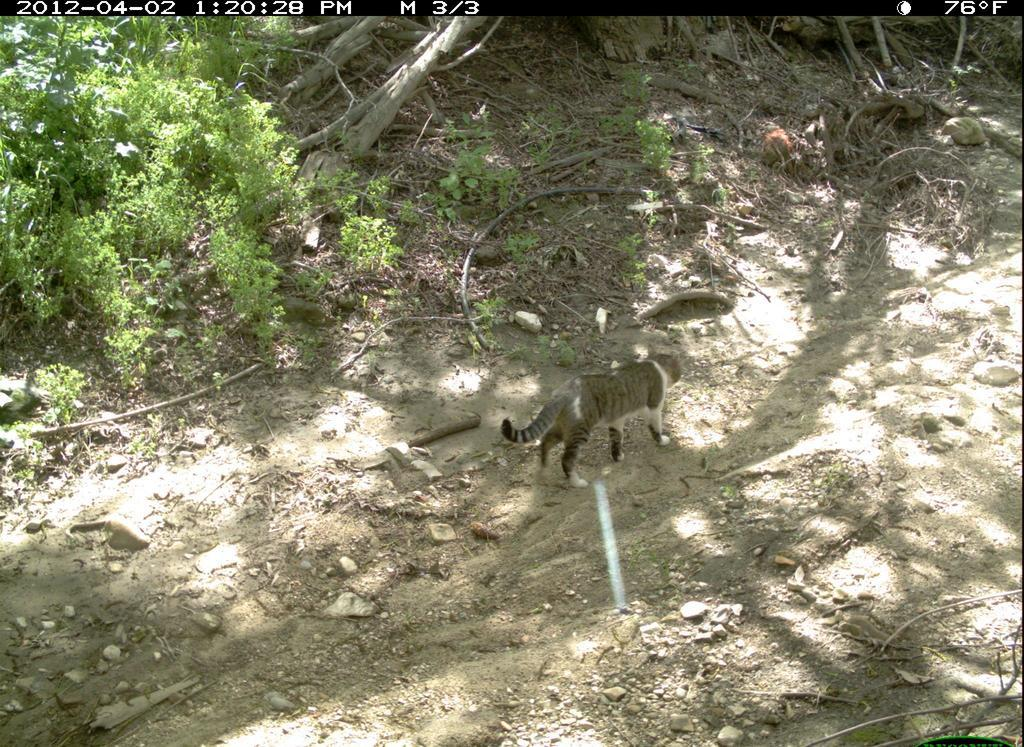cat: (500, 347, 705, 491)
